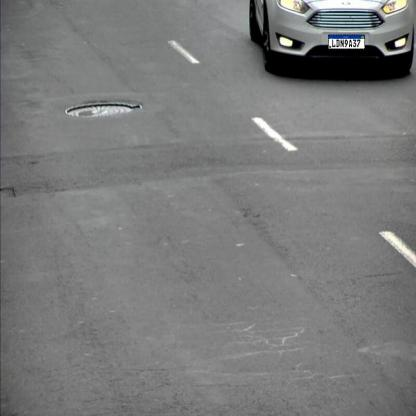PlacaM: (328, 35, 365, 49)
